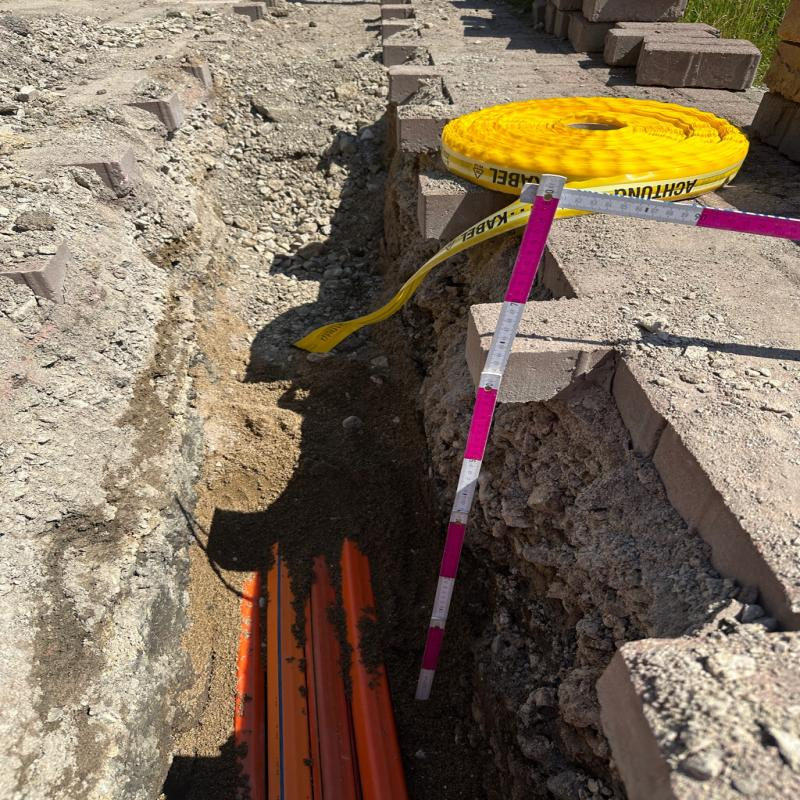Orang-Speednetrohrchen: (240, 551, 414, 800)
